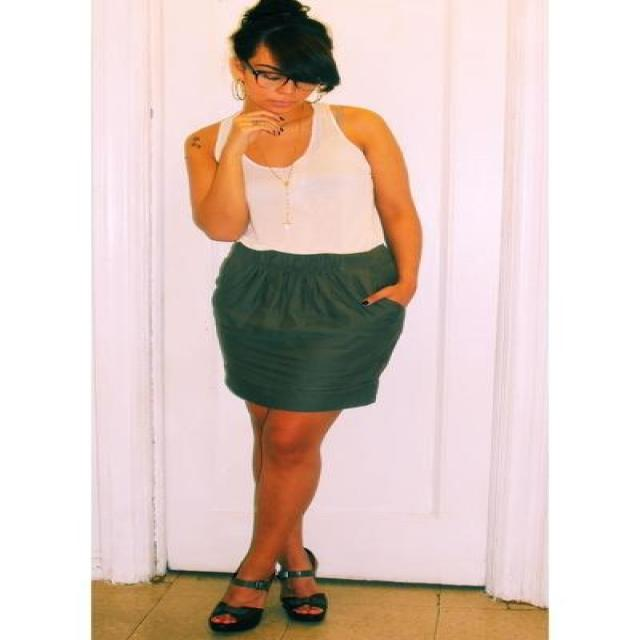shirt: (192, 89, 386, 254)
shoe: (190, 550, 325, 634)
skirt: (213, 243, 403, 411)
